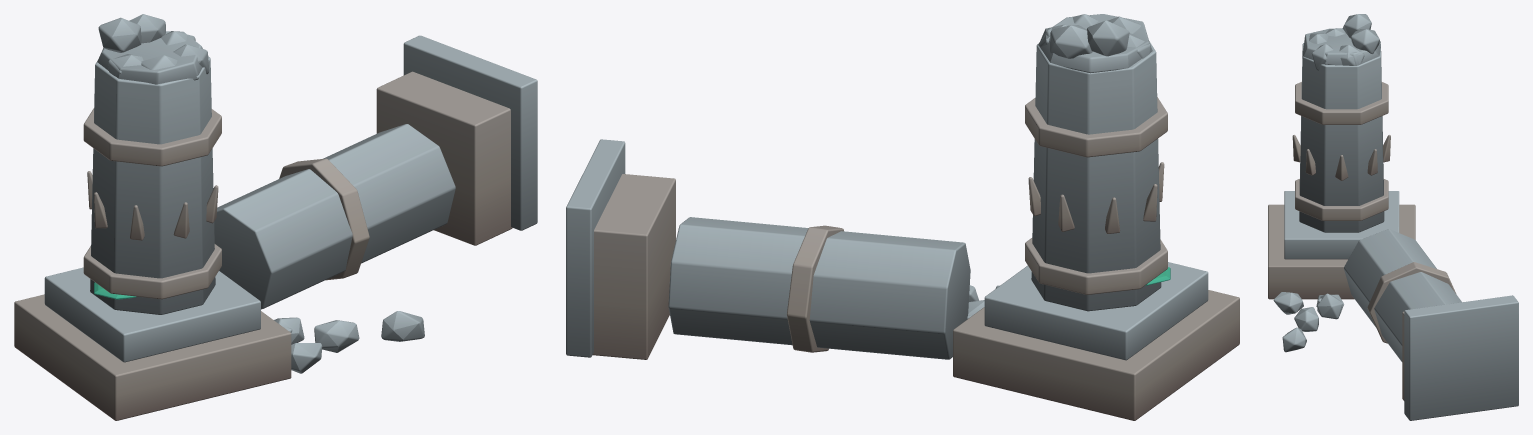
Rendered from broken_pillar.glb.
3 views of the same model, side by side, from view 1: azimuth 30°, elevation 25°; view 2: azimuth 150°, elevation 25°; view 3: azimuth 270°, elevation 25° (orthographic). The views are drawn at different scales.
Visible parts, largest first — view 1: broken_pillar; view 2: broken_pillar; view 3: broken_pillar.
Part boxes in pixels (bbox=[...]): broken_pillar: bbox=[14, 14, 537, 420]; broken_pillar: bbox=[566, 14, 1239, 420]; broken_pillar: bbox=[1268, 14, 1518, 420].
Size of the model in its own units: 4.71 by 3.05 by 2.72.
Materials: 1 (1 with a texture image).
